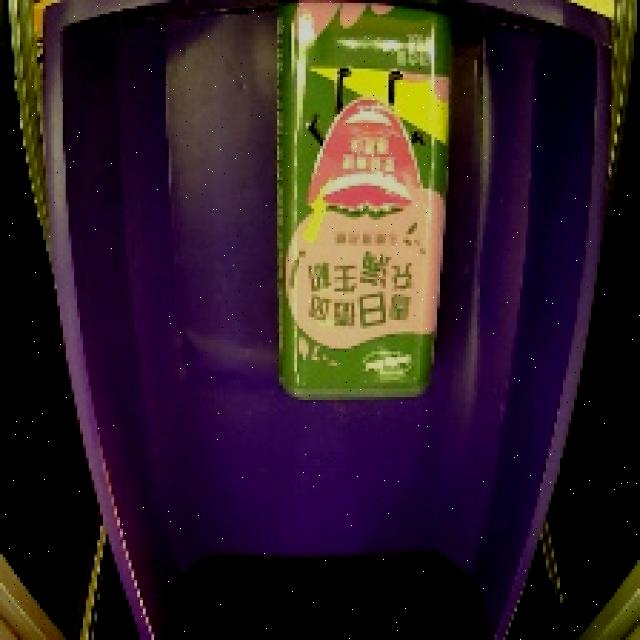metal: (264, 0, 462, 420)
